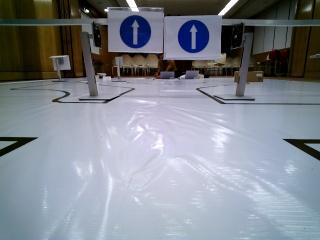straight: (163, 17, 219, 61), (109, 8, 163, 50)
